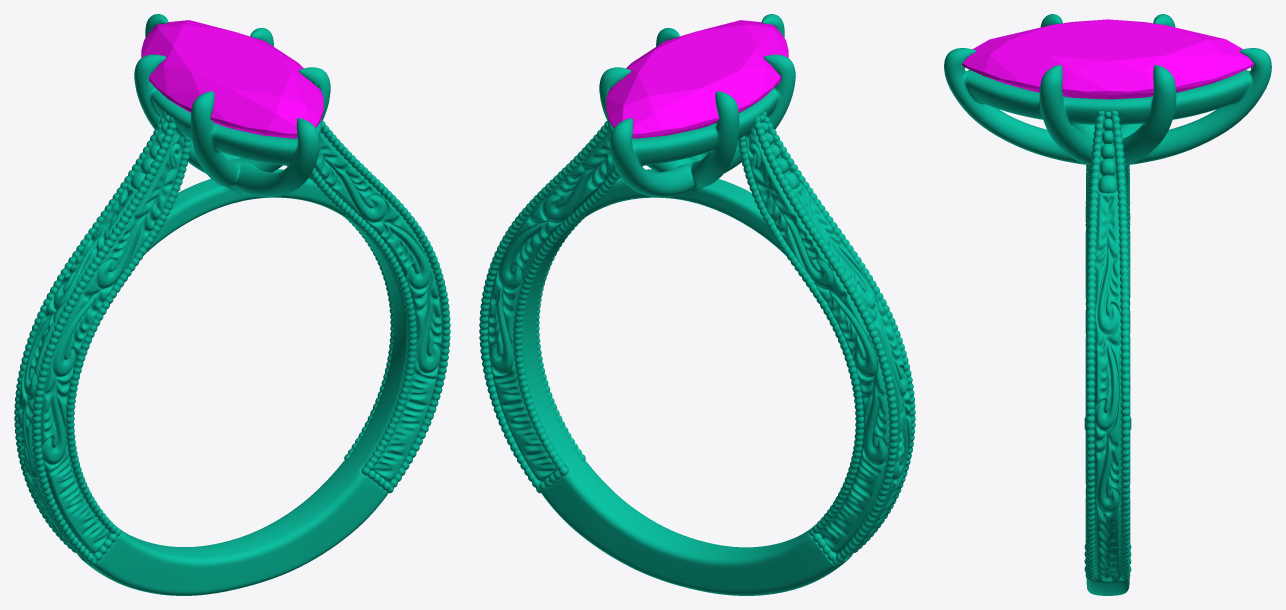
Rendered from BE1342_MQ_200ct_RENDER.glb.
The picture shows the model from 3 angles, left to right: view 1: azimuth 30°, elevation 25°; view 2: azimuth 150°, elevation 25°; view 3: azimuth 270°, elevation 25°; orthographic projection.
Visible parts, largest first — view 1: Metal 01, CS_Diamond_Marquise; view 2: Metal 01, CS_Diamond_Marquise; view 3: Metal 01, CS_Diamond_Marquise.
Boxes of the visible parts, x1,y1,x2,y2 form: Metal 01: (14,14,450,595); CS_Diamond_Marquise: (141,20,323,138); Metal 01: (479,14,915,595); CS_Diamond_Marquise: (606,20,788,138); Metal 01: (944,14,1271,595); CS_Diamond_Marquise: (962,19,1253,99).
Bounding box in the file's own units: 20.82 × 24.91 × 13.99.
